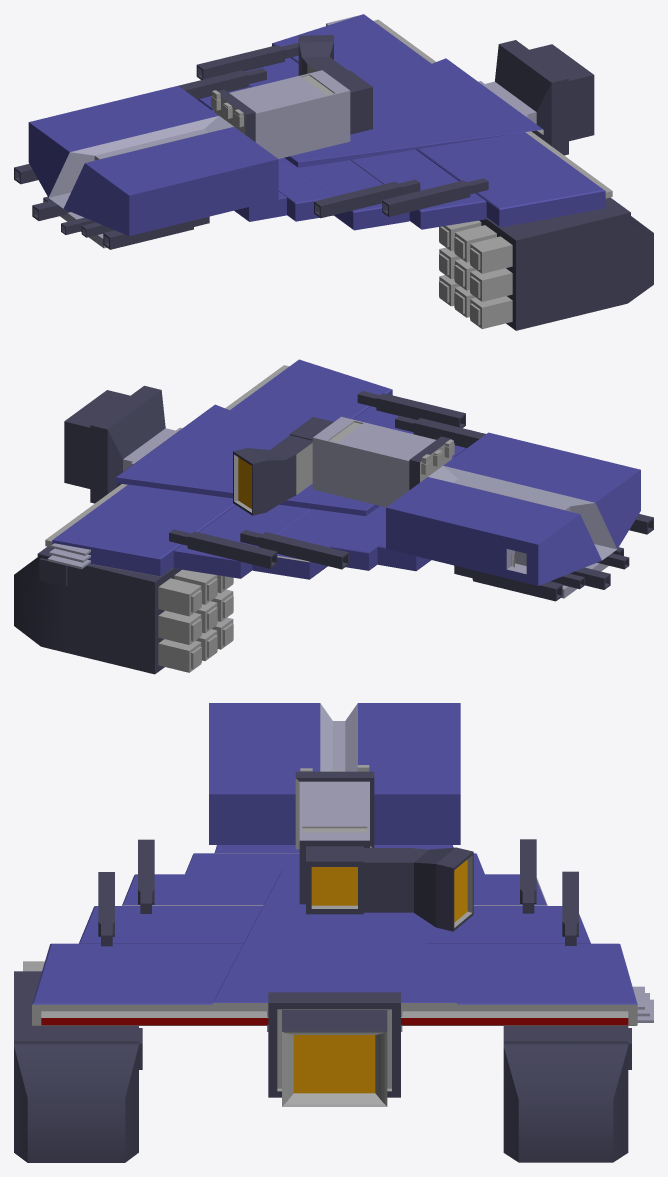
File: Front line ship.fbx
3 renders of one model, top to bottom at view 1: azimuth 30°, elevation 25°; view 2: azimuth 150°, elevation 25°; view 3: azimuth 270°, elevation 25°, orthographic. The views are drawn at different scales.
Parts seen in each view (by area): view 1: Front_Line_Ship; view 2: Front_Line_Ship; view 3: Front_Line_Ship.
Boxes of the visible parts, x1,y1,x2,y2 form: Front_Line_Ship: (14,14,653,330); Front_Line_Ship: (14,359,653,674); Front_Line_Ship: (14,703,653,1162).
Size of the model in its own units: 164 by 52.46 by 138.
